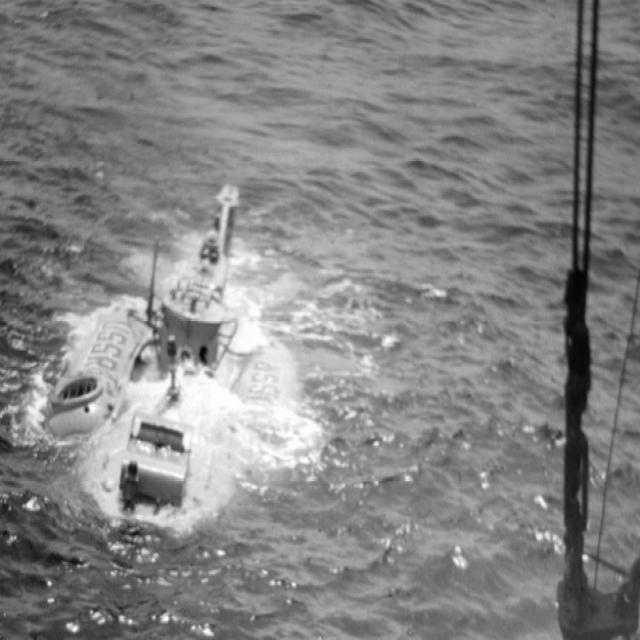submarine: (45, 175, 310, 534)
